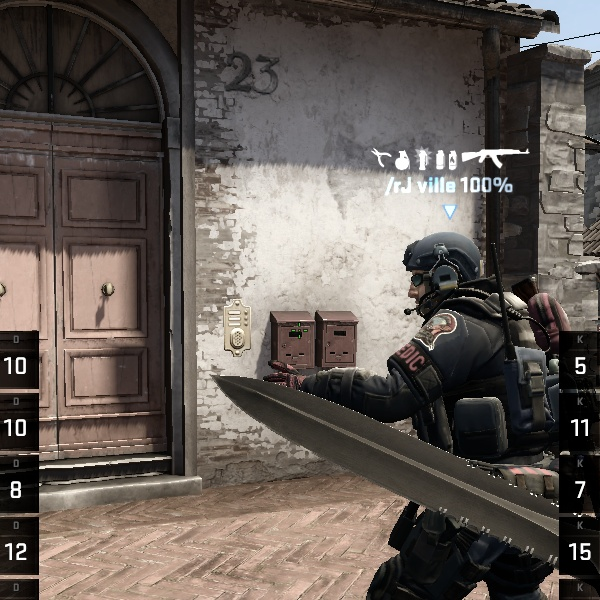ct_body: (336, 219, 590, 600)
ct_head: (386, 225, 498, 335)
